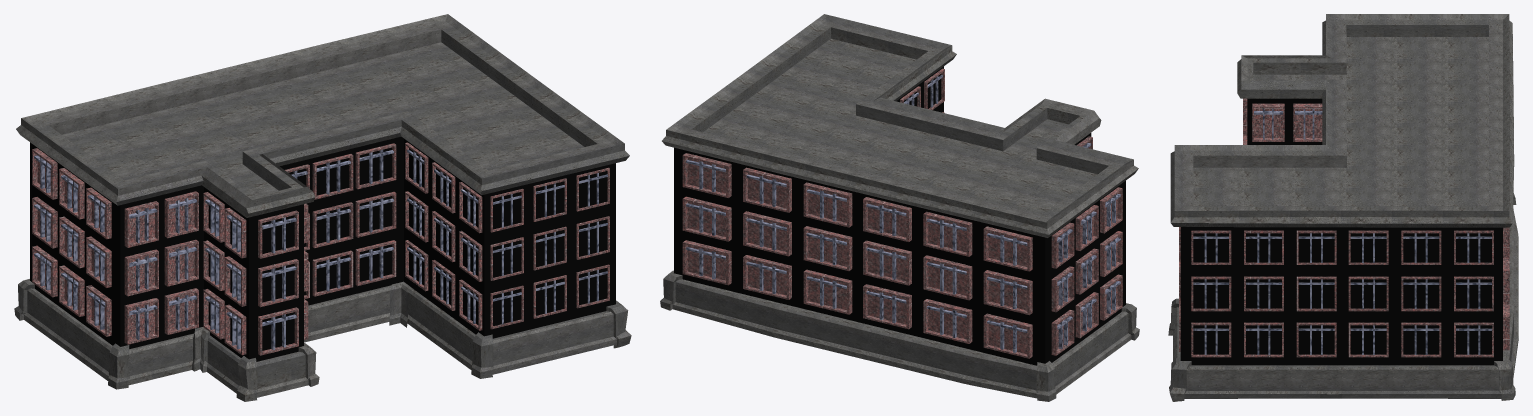
Rendered from Aparment_1.fbx.
3 renders of one model, left to right at view 1: azimuth 30°, elevation 25°; view 2: azimuth 150°, elevation 25°; view 3: azimuth 270°, elevation 25°, orthographic. The views are drawn at different scales.
Parts seen in each view (by area): view 1: Aparment_1; view 2: Aparment_1; view 3: Aparment_1.
Boxes of the visible parts, <box> form: Aparment_1: <box>14,14,631,401</box>; Aparment_1: <box>660,14,1139,401</box>; Aparment_1: <box>1168,14,1518,401</box>.
Bounding box in the file's own units: 2375 × 1048 × 1737.
